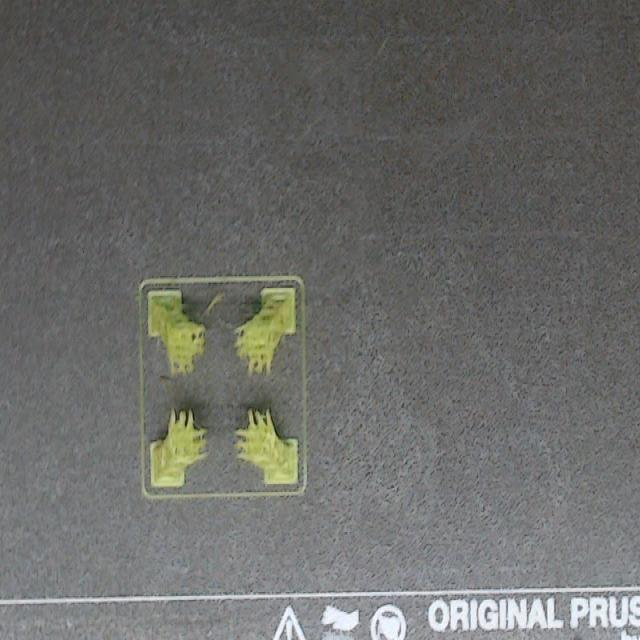mistake: (234, 288, 296, 373), (236, 409, 297, 484), (150, 409, 206, 487), (173, 326, 203, 371)
